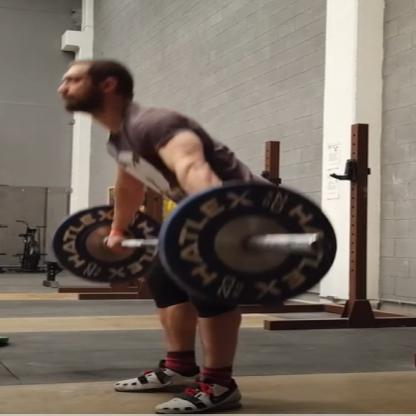Barbell: (151, 174, 349, 314)
